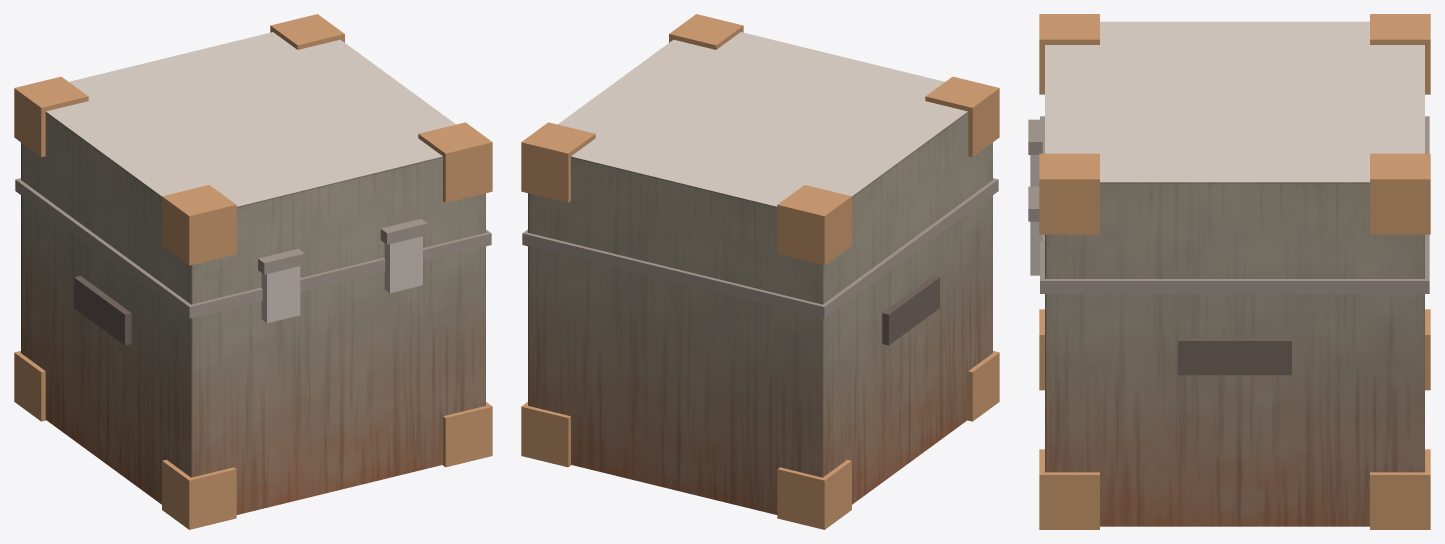
File: D01_crate_small.glb
3 views of the same model, side by side, from view 1: azimuth 30°, elevation 25°; view 2: azimuth 150°, elevation 25°; view 3: azimuth 270°, elevation 25° (orthographic). The views are drawn at different scales.
Visible parts, largest first — view 1: shell, corner_cap (×7), lid_seam, latch (×2), grip_recess, latch_hinge (×2); view 2: shell, corner_cap (×7), lid_seam, grip_recess; view 3: shell, corner_cap (×8), lid_seam, grip_recess, latch, latch_hinge.
Boxes of the visible parts, x1,y1,x2,y2 form: shell: [21, 32, 485, 514]; corner_cap (×7): [14, 14, 492, 529]; lid_seam: [15, 178, 491, 318]; latch (×2): [261, 236, 422, 323]; grip_recess: [74, 276, 131, 345]; latch_hinge (×2): [258, 219, 427, 274]; shell: [528, 32, 992, 514]; corner_cap (×7): [521, 14, 999, 529]; lid_seam: [522, 178, 998, 318]; grip_recess: [882, 276, 939, 345]; shell: [1045, 21, 1424, 526]; corner_cap (×8): [1039, 14, 1430, 529]; lid_seam: [1040, 116, 1429, 293]; grip_recess: [1178, 337, 1291, 375]; latch: [1030, 221, 1042, 275]; latch_hinge: [1028, 119, 1042, 154].
Bounding box in the file's own units: 0.836 × 0.814 × 0.847.
Materials: 7 (1 with a texture image).
